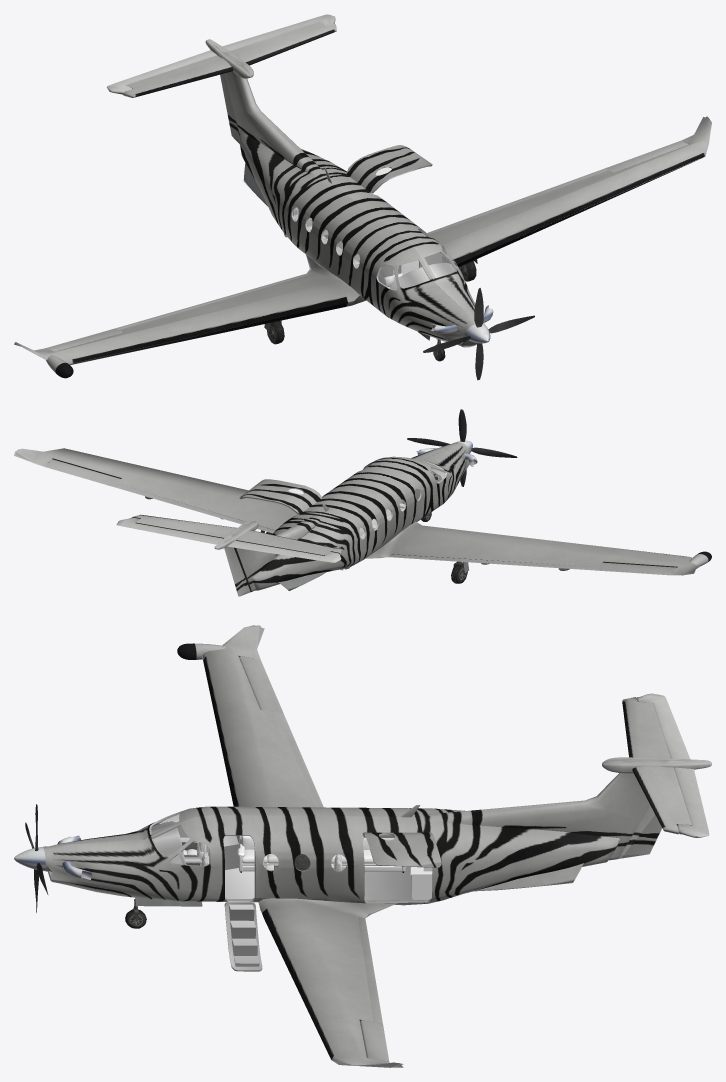
File: planewhite.fbx
The picture shows the model from 3 angles, top to bottom: view 1: azimuth 30°, elevation 25°; view 2: azimuth 150°, elevation 25°; view 3: azimuth 270°, elevation 25°; orthographic projection. The views are drawn at different scales.
Parts seen in each view (by area): view 1: plane_33V6XQ5fzFcgXUa8ke3W39; view 2: plane_33V6XQ5fzFcgXUa8ke3W39; view 3: plane_33V6XQ5fzFcgXUa8ke3W39, Sofa3x_amazing_3ruxg6bTT3FOKmfI6oe8HG, Furniture_3s4Thby7T7QRmPx2llm5lI.
Part boxes in pixels (x1,y1,x2,y2): plane_33V6XQ5fzFcgXUa8ke3W39: (14,14,711,380); plane_33V6XQ5fzFcgXUa8ke3W39: (14,409,711,596); plane_33V6XQ5fzFcgXUa8ke3W39: (14,625,711,1067); Sofa3x_amazing_3ruxg6bTT3FOKmfI6oe8HG: (237,835,278,872); Furniture_3s4Thby7T7QRmPx2llm5lI: (410,867,432,899).
Size of the model in its own units: 2986 by 559 by 2011.
36 materials, 10 textured.
